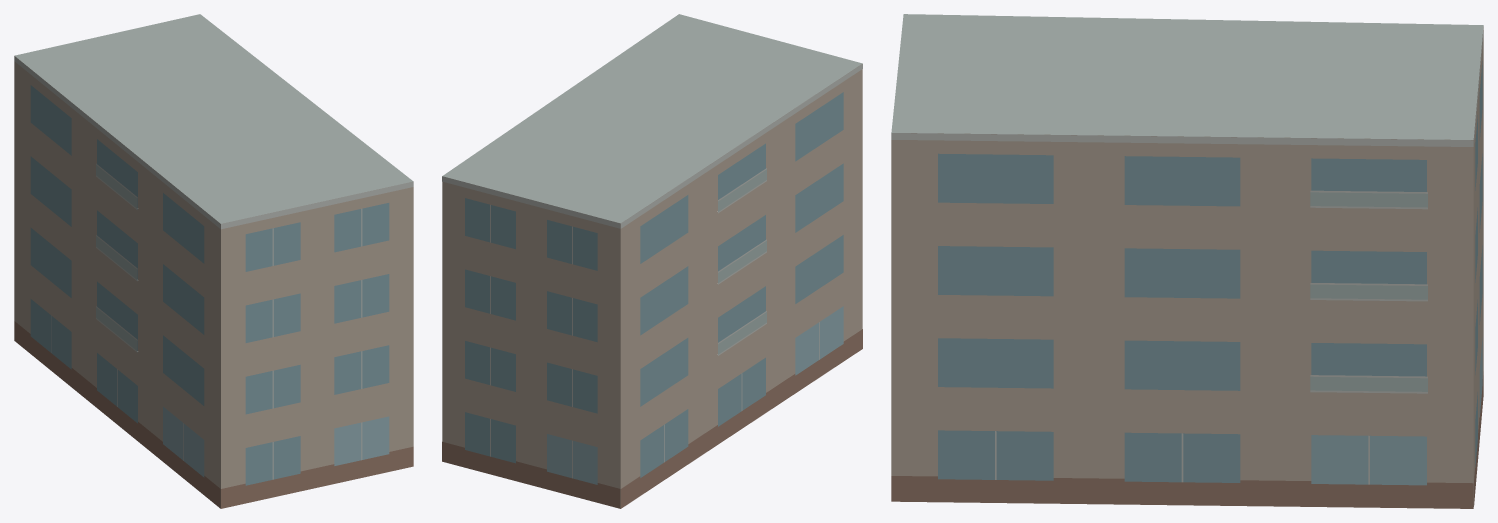
The model's file is survey-upis-32659754.glb.
The picture shows the model from 3 angles, left to right: view 1: azimuth 30°, elevation 25°; view 2: azimuth 150°, elevation 25°; view 3: azimuth 270°, elevation 25°; orthographic projection. The views are drawn at different scales.
Parts seen in each view (by area): view 1: survey-upis-32659754.tmp; view 2: survey-upis-32659754.tmp; view 3: survey-upis-32659754.tmp.
Part boxes in pixels (x1,y1,x2,y2): survey-upis-32659754.tmp: [14, 14, 413, 508]; survey-upis-32659754.tmp: [442, 14, 862, 508]; survey-upis-32659754.tmp: [891, 14, 1483, 508].
Size of the model in its own units: 9.39 by 12.8 by 18.64.
